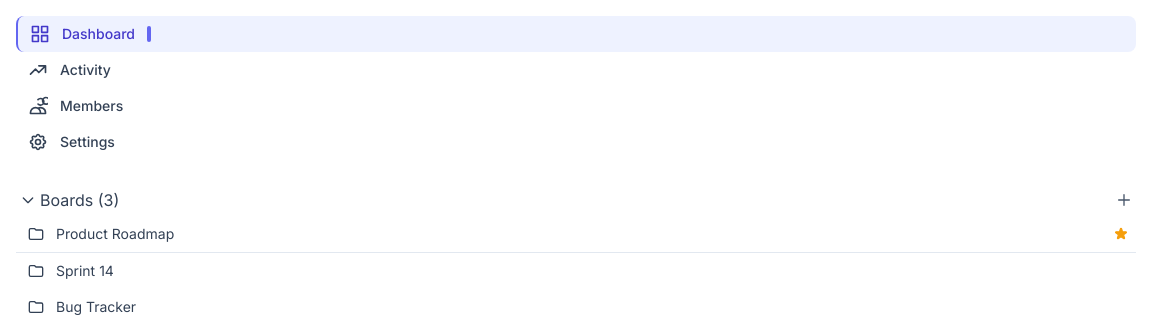
Test: Sidebar Navigation › Navigation Links Component › expands and collapses boards section
Expected: the text "Product Roadmap" is shown, top-left (56, 225), bottom-right (174, 242)
Expected: the text "Sprint 14" is shown, top-left (56, 262), bottom-right (114, 279)
// Click to collapse
Click the button "Boards (3)".
click(70, 200)  # box top-left (16, 184), bottom-right (123, 216)
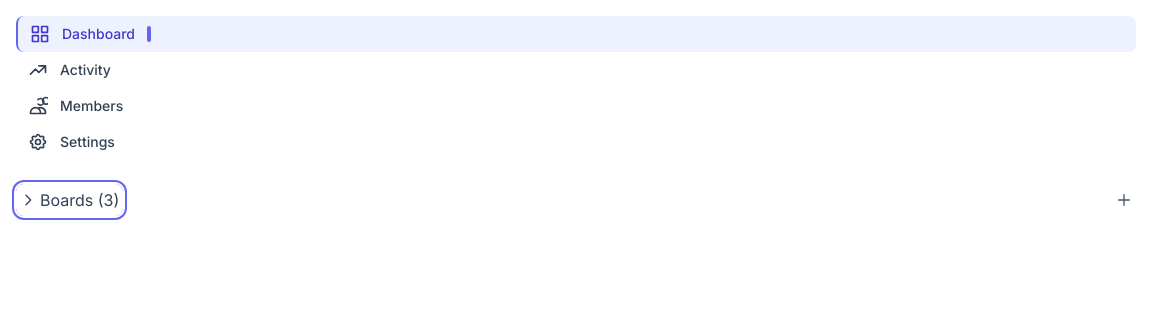
Expected: the link "Product Roadmap" is gone
Expected: the link "Sprint 14" is gone
// Click to expand again
Click the button "Boards (3)".
click(70, 200)  # box top-left (16, 184), bottom-right (123, 216)
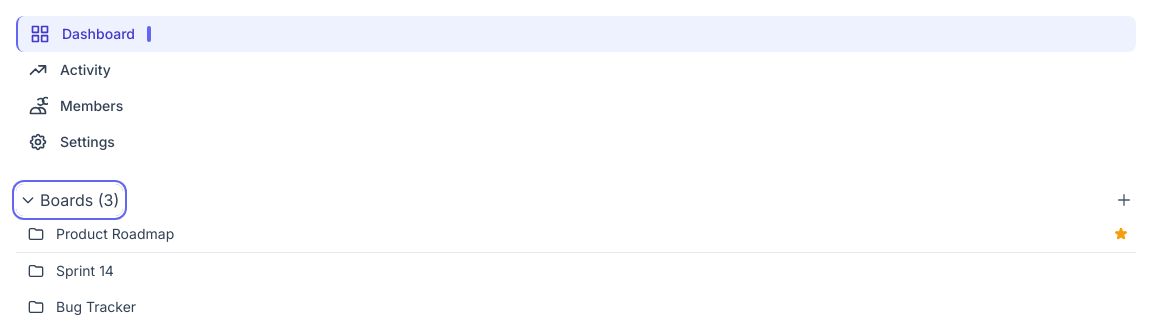
Expected: the text "Product Roadmap" is shown, top-left (56, 225), bottom-right (174, 242)
Expected: the text "Sprint 14" is shown, top-left (56, 262), bottom-right (114, 279)
